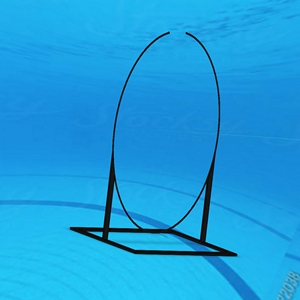circle: (68, 30, 239, 260)
